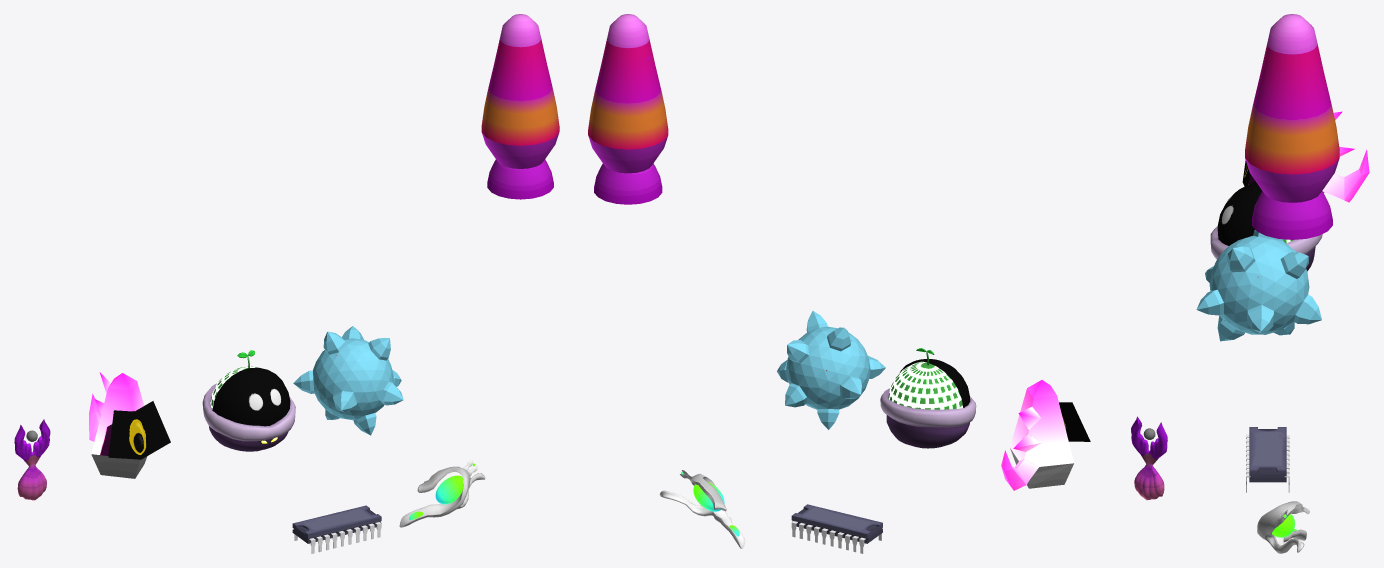
File: Ingredientes2ElectricBogaloo.fbx
3 views of the same model, side by side, from view 1: azimuth 30°, elevation 25°; view 2: azimuth 150°, elevation 25°; view 3: azimuth 270°, elevation 25° (orthographic). The views are drawn at different scales.
Visible parts, largest first — view 1: DoExterior, PurpleLavaGlass, PurpleLava, DeesFace, Sinia, SiniaEyes, DeesRopa, Chip, Odzia, Moonso; view 2: DoExterior, PurpleLavaGlass, Sinia, PurpleLava, DeesRopa, Dees, Chip, Odzia, Moonso, SiniaEyes; view 3: PurpleLavaGlass, DoExterior, PurpleLava, Chip, DeesFace, Moonso, Sinia, DeesRopa, MoonsoLight.
Boxes of the visible parts, x1=… form: DoExterior: x1=293, y1=326, x2=403, y2=435; PurpleLavaGlass: x1=481, y1=38, x2=559, y2=145; PurpleLava: x1=482, y1=14, x2=559, y2=199; DeesFace: x1=212, y1=367, x2=290, y2=426; Sinia: x1=89, y1=372, x2=147, y2=478; SiniaEyes: x1=108, y1=401, x2=170, y2=459; DeesRopa: x1=202, y1=383, x2=295, y2=451; Chip: x1=292, y1=505, x2=381, y2=543; Odzia: x1=14, y1=419, x2=50, y2=500; Moonso: x1=399, y1=460, x2=485, y2=527; DoExterior: x1=777, y1=311, x2=885, y2=429; PurpleLavaGlass: x1=588, y1=38, x2=668, y2=149; Sinia: x1=1001, y1=380, x2=1074, y2=490; PurpleLava: x1=588, y1=14, x2=667, y2=204; DeesRopa: x1=880, y1=388, x2=976, y2=448; Dees: x1=888, y1=361, x2=962, y2=409; Chip: x1=791, y1=504, x2=882, y2=543; Odzia: x1=1131, y1=416, x2=1167, y2=500; Moonso: x1=659, y1=470, x2=745, y2=548; SiniaEyes: x1=1059, y1=402, x2=1090, y2=441; PurpleLavaGlass: x1=1245, y1=42, x2=1339, y2=174; DoExterior: x1=1196, y1=230, x2=1321, y2=341; PurpleLava: x1=1245, y1=14, x2=1339, y2=239; Chip: x1=1249, y1=427, x2=1286, y2=482; DeesFace: x1=1217, y1=182, x2=1262, y2=245; Moonso: x1=1257, y1=501, x2=1309, y2=553; Sinia: x1=1248, y1=111, x2=1369, y2=202; DeesRopa: x1=1210, y1=226, x2=1322, y2=271; MoonsoLight: x1=1272, y1=514, x2=1294, y2=537.
Bounding box in the file's own units: 1965 × 1663 × 440.
